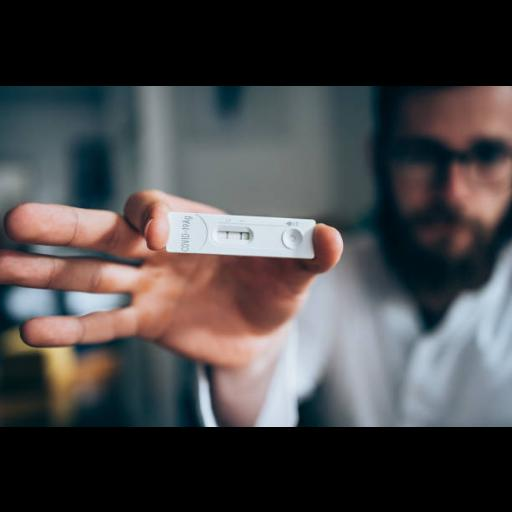Pos: (166, 212, 315, 257)
